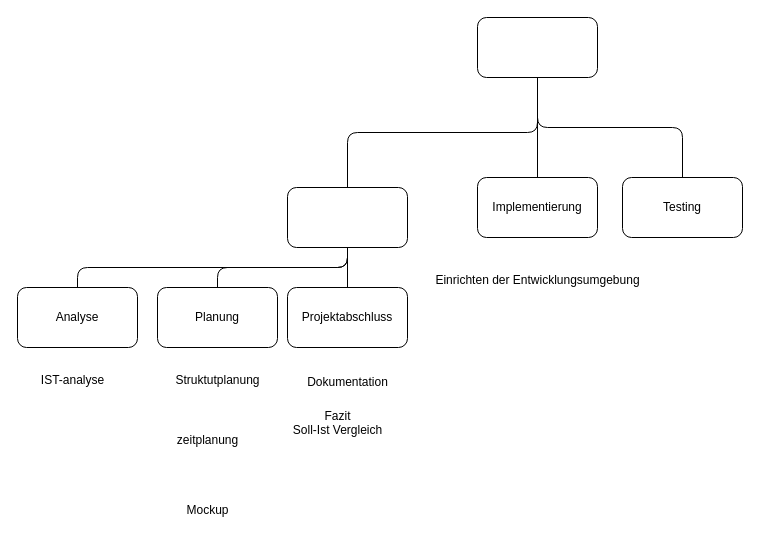
This 760x543 diagram has some shape labels left out. The shapes that lost their labels are listed below. From the top down, each one's centre as x and y in pixels, then its label:
the point at 537,47: Projekt Liegeplatz Verwaltung
the point at 347,217: Projektmanagement
